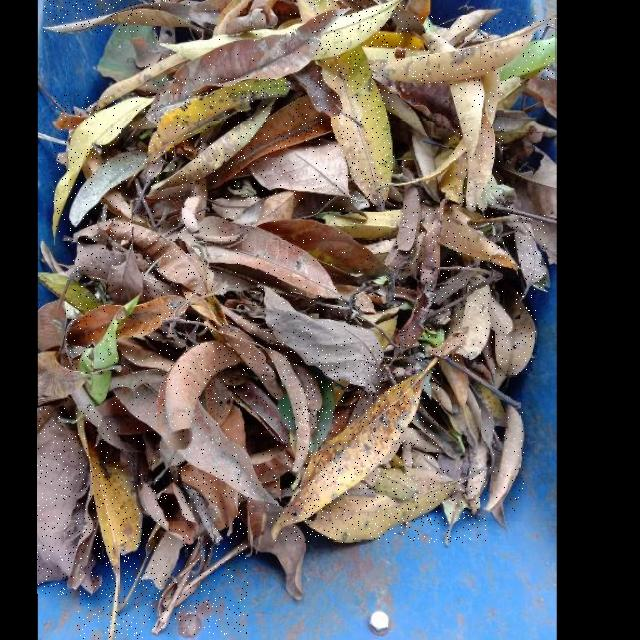biowaste: (271, 357, 439, 541), (144, 8, 350, 124), (113, 380, 284, 516), (138, 470, 249, 635), (53, 96, 154, 247), (182, 208, 343, 300), (78, 417, 143, 640), (145, 98, 278, 202), (304, 469, 487, 543), (262, 286, 384, 395), (368, 15, 556, 84), (317, 45, 394, 212), (38, 407, 102, 595), (147, 79, 291, 162), (207, 96, 333, 190), (72, 219, 207, 295), (163, 319, 284, 400), (65, 296, 188, 373), (158, 341, 243, 450), (395, 200, 446, 356), (258, 220, 392, 278), (251, 342, 310, 473), (449, 71, 504, 211), (250, 140, 358, 201), (313, 0, 404, 60), (430, 277, 495, 361), (43, 0, 200, 33), (441, 206, 517, 271), (486, 405, 524, 511), (496, 288, 536, 376), (506, 215, 547, 299), (390, 183, 422, 269), (107, 237, 143, 306), (297, 0, 339, 25), (401, 161, 419, 180), (249, 0, 278, 11)
